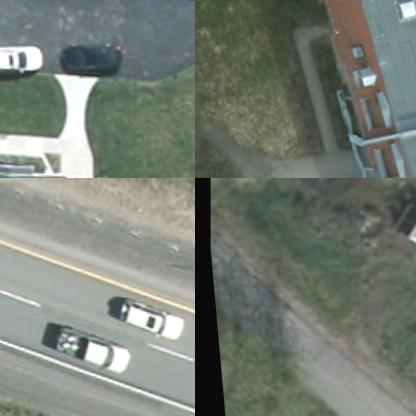car: (54, 37, 135, 82), (112, 298, 184, 345), (0, 37, 45, 79)
pickup: (44, 320, 132, 382)
